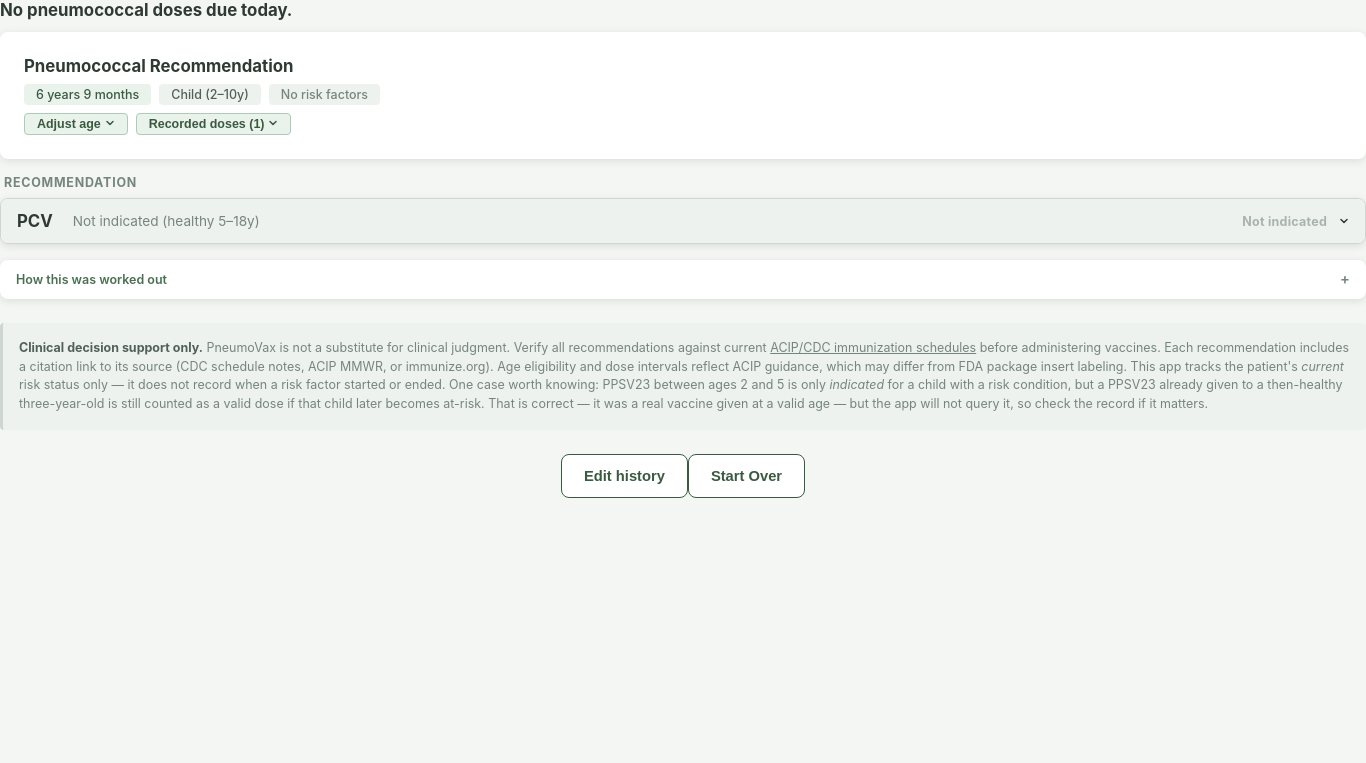
Scenario: the OTHER dose editor — the inline one on the results screen › warns about a future date once the editor is opened
Click the button "Recorded doses (1)" at (214, 124), box [136,113,292,135]
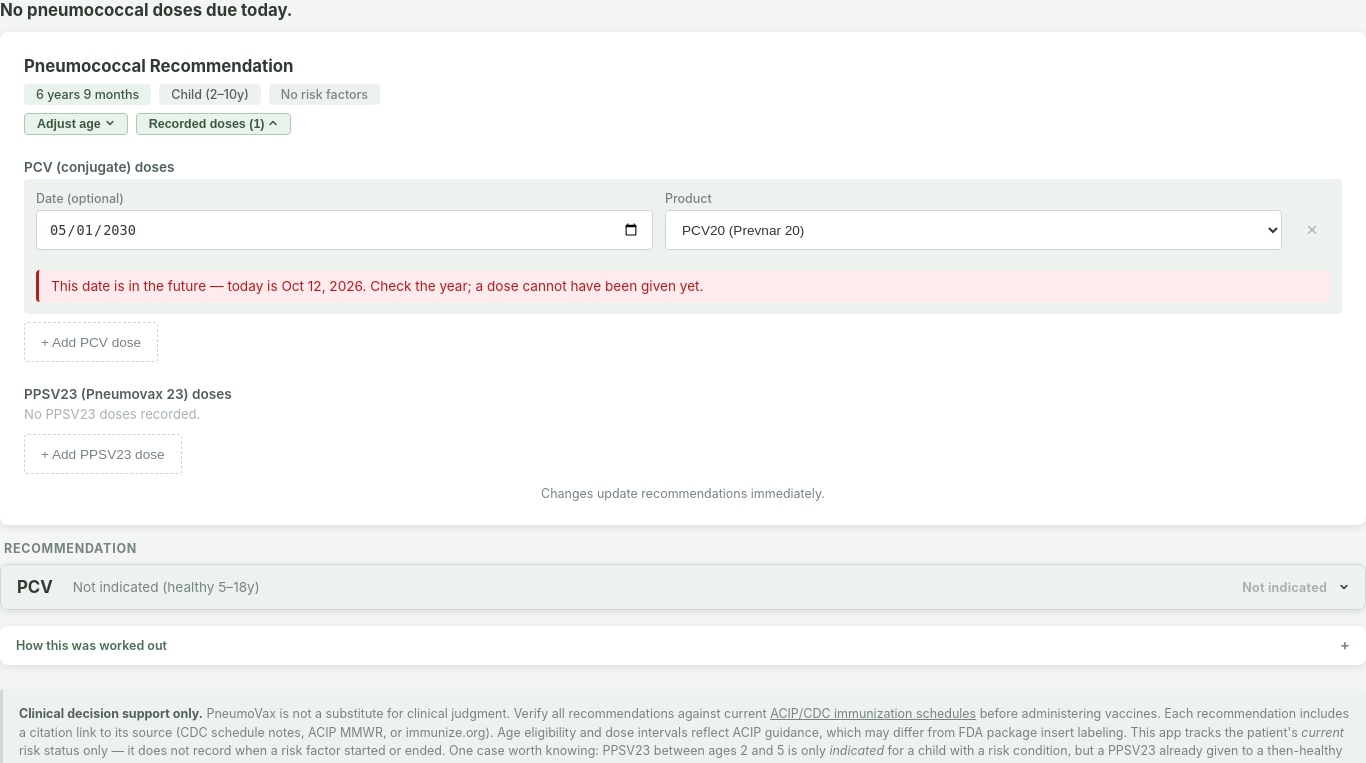
Expected: the text "This date is in the future" is shown, [51,278,704,294]
